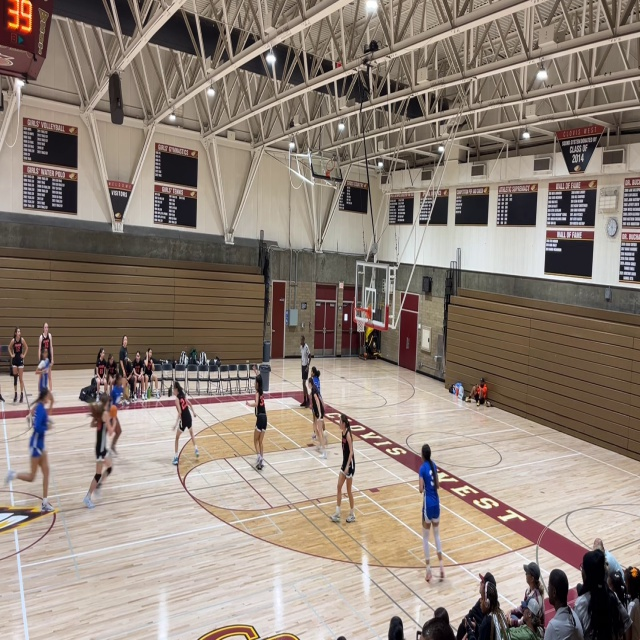Basketball: (630, 567, 639, 578)
